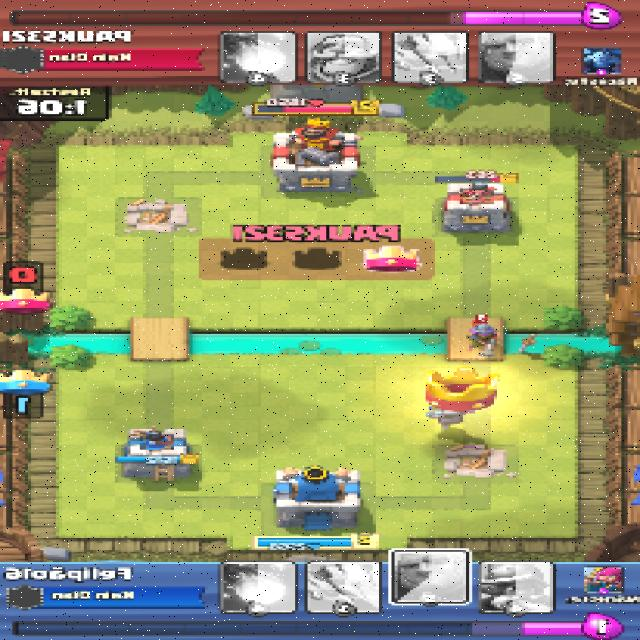Enemy-Musketeer: (468, 325, 503, 356)
Player-MiniPEKKA: (426, 407, 476, 427)
